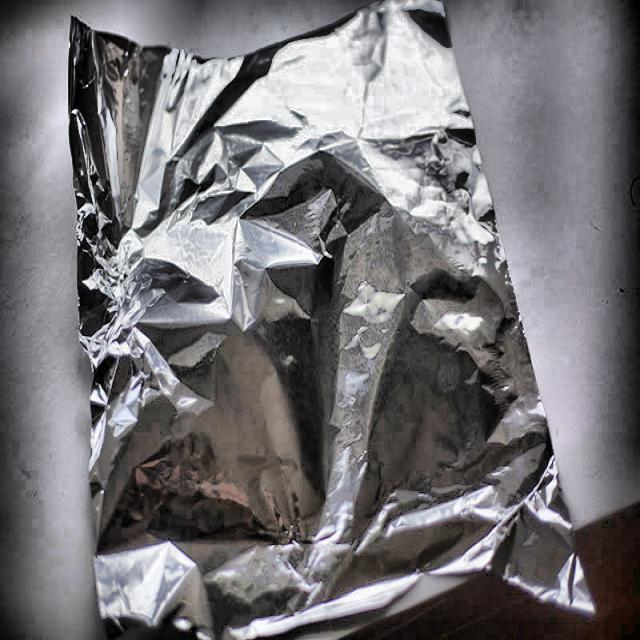Foil: (51, 0, 603, 640)
